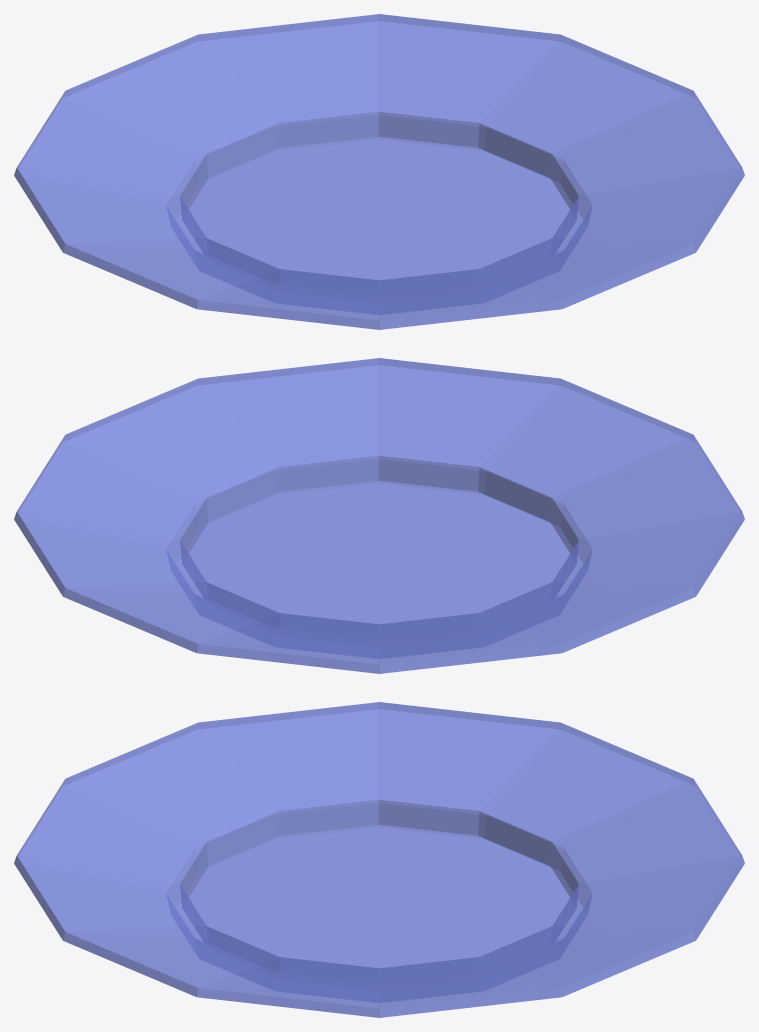
The model's file is Plate.fbx.
3 renders of one model, top to bottom at view 1: azimuth 30°, elevation 25°; view 2: azimuth 150°, elevation 25°; view 3: azimuth 270°, elevation 25°, orthographic.
Parts seen in each view (by area): view 1: Plate; view 2: Plate; view 3: Plate.
Boxes of the visible parts, x1,y1,x2,y2 form: Plate: (14,14,744,329); Plate: (14,358,744,673); Plate: (14,702,744,1017).
Size of the model in its own units: 0.1213 by 0.1213 by 0.011.
